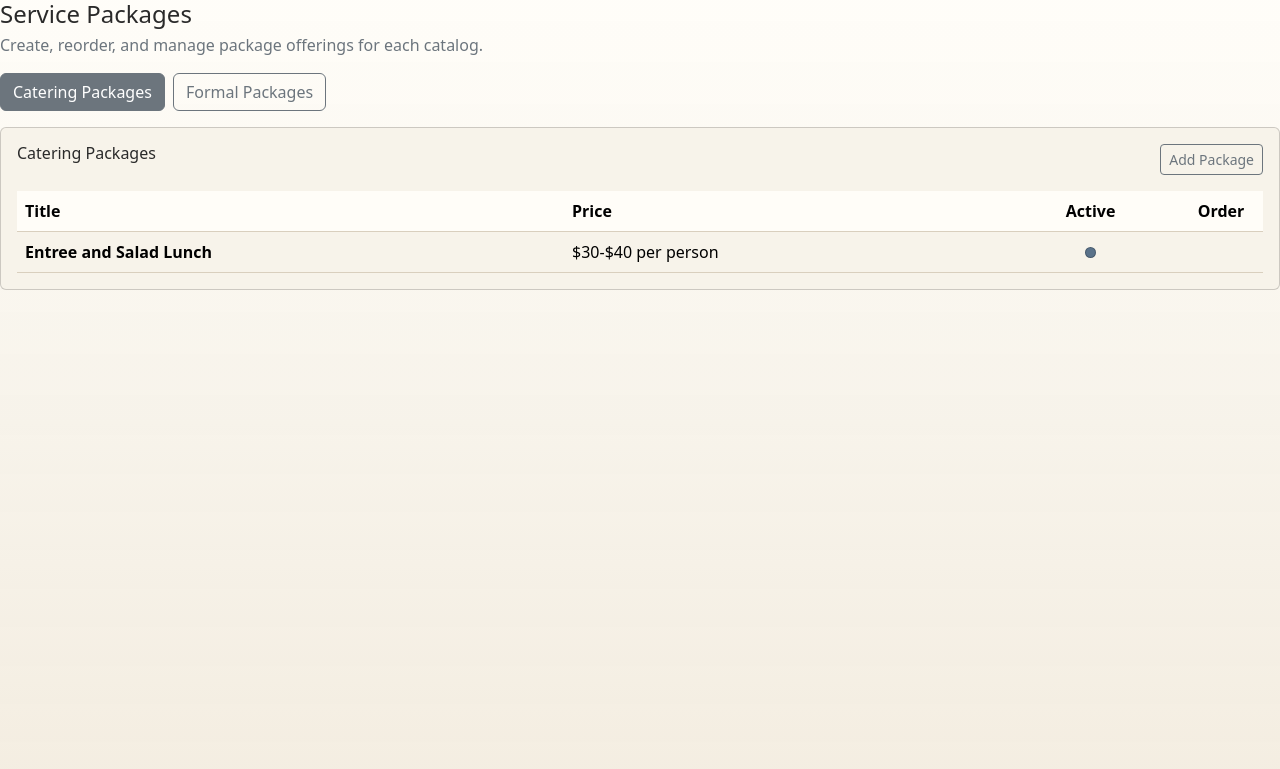
Scenario: AdminServicePlansPage › supports specific catering choice families when editing a package
Expected: the text "Entree and Salad Lunch" is shown, [25, 241, 212, 263]
Click the button "Entree and Salad Lunch": (640, 252) [17, 231, 1263, 272]
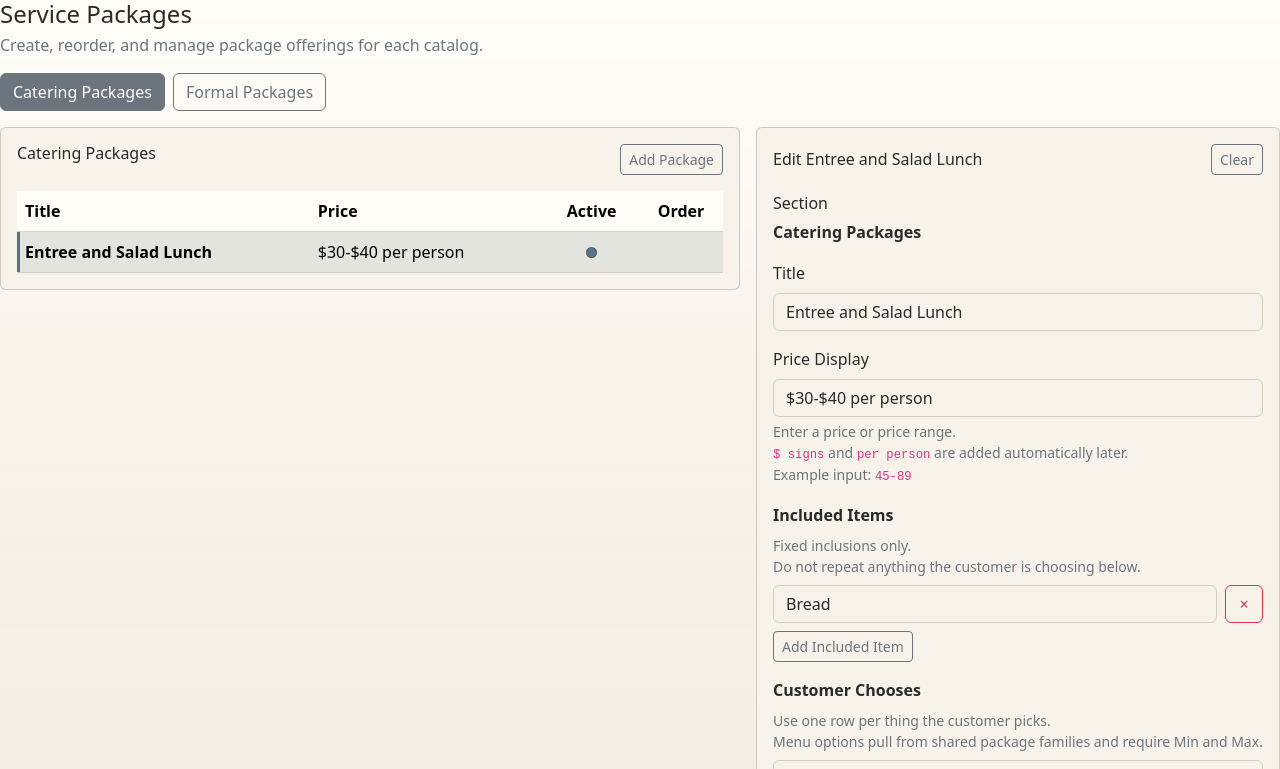
Expected: the heading "Edit Entree and Salad Lunch" is shown, [773, 150, 982, 169]
Expected: the number of fields with placeholder "Min" is 2
Expected: the number of fields with placeholder "Max" is 2
